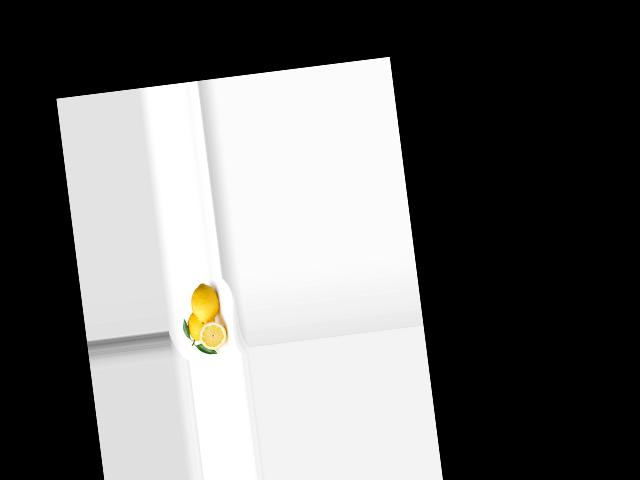lemon: (184, 308, 215, 346)
